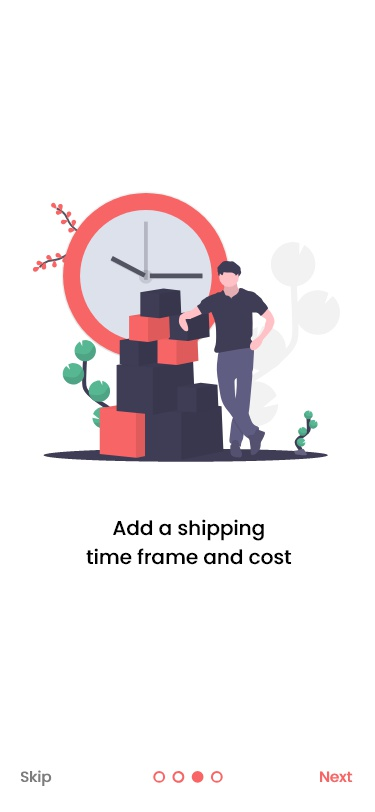Image: (32, 193, 341, 463)
PageIndicator: (152, 769, 224, 785)
Text: (86, 519, 293, 566), (21, 769, 53, 787), (319, 770, 353, 783)
